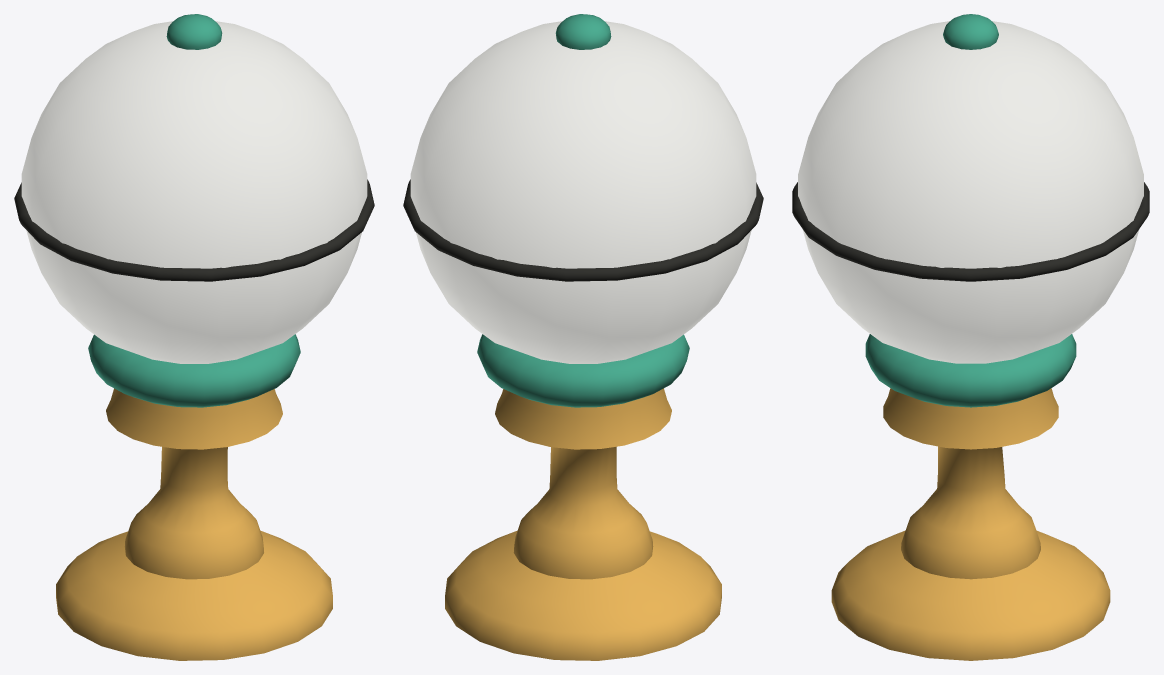
File: OT_061_round_table_lamp.glb
The picture shows the model from 3 angles, left to right: view 1: azimuth 30°, elevation 25°; view 2: azimuth 150°, elevation 25°; view 3: azimuth 270°, elevation 25°; orthographic projection.
Parts seen in each view (by area): view 1: lamp, lamp_structure, lamp_deco; view 2: lamp, lamp_structure, lamp_deco; view 3: lamp, lamp_structure, lamp_deco.
Part boxes in pixels (box(x1,y1,x2,y2)): lamp: box(21, 21, 367, 363); lamp_structure: box(56, 388, 332, 660); lamp_deco: box(14, 14, 374, 407); lamp: box(410, 21, 756, 363); lamp_structure: box(445, 388, 721, 660); lamp_deco: box(403, 14, 763, 407); lamp: box(798, 21, 1143, 363); lamp_structure: box(831, 388, 1110, 660); lamp_deco: box(792, 14, 1149, 407).
Size of the model in its own units: 0.7486 by 1.34 by 0.741.
